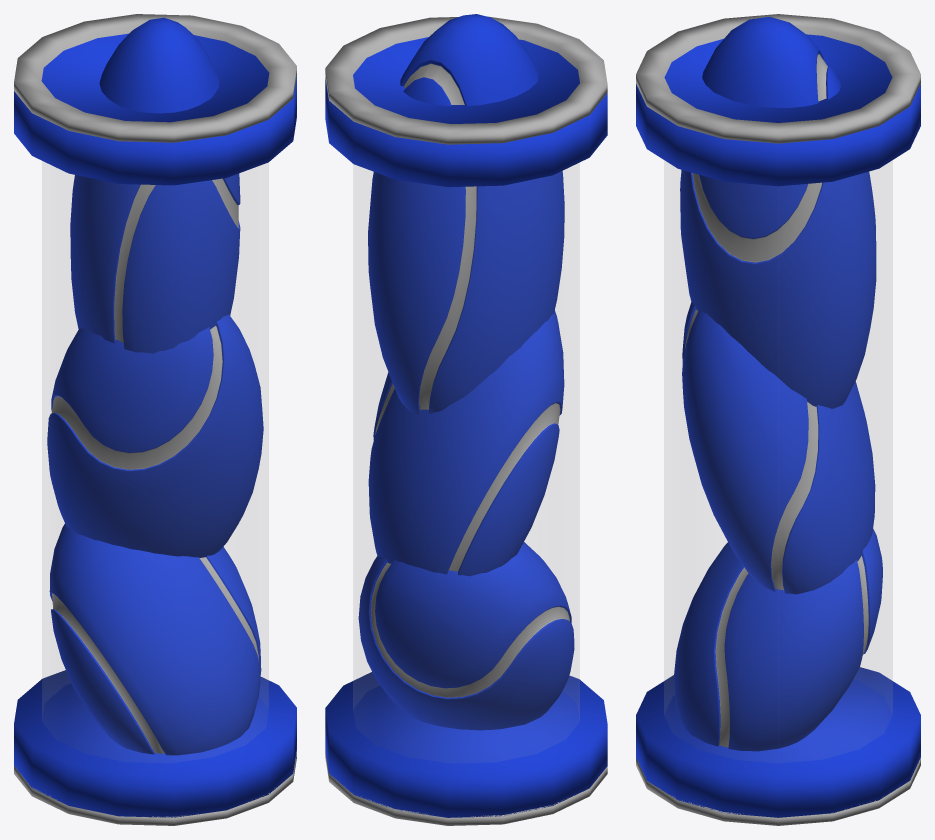
File: padel_ball_packaging.glb
3 views of the same model, side by side, from view 1: azimuth 30°, elevation 25°; view 2: azimuth 150°, elevation 25°; view 3: azimuth 270°, elevation 25° (orthographic).
Parts seen in each view (by area): view 1: Tennis Ball.003, Tennis Ball.001, Tennis Ball.004, Cylinder.003, Cylinder, Cylinder.005, Cylinder.002, Cylinder.004; view 2: Tennis Ball.004, Tennis Ball.003, Tennis Ball.001, Cylinder.003, Cylinder, Cylinder.005, Cylinder.002, Cylinder.004; view 3: Tennis Ball.004, Tennis Ball.003, Tennis Ball.001, Cylinder.003, Cylinder, Cylinder.005, Cylinder.002, Cylinder.004.
Boxes of the visible parts, x1=… form: Tennis Ball.003: x1=47, y1=314, x2=263, y2=557; Tennis Ball.001: x1=49, y1=523, x2=261, y2=755; Tennis Ball.004: x1=70, y1=17, x2=240, y2=353; Cylinder.003: x1=14, y1=670, x2=296, y2=817; Cylinder: x1=42, y1=161, x2=268, y2=717; Cylinder.005: x1=14, y1=14, x2=296, y2=142; Cylinder.002: x1=14, y1=76, x2=296, y2=185; Cylinder.004: x1=14, y1=751, x2=296, y2=825; Tennis Ball.004: x1=368, y1=14, x2=564, y2=414; Tennis Ball.003: x1=368, y1=310, x2=564, y2=576; Tennis Ball.001: x1=358, y1=542, x2=574, y2=730; Cylinder.003: x1=325, y1=672, x2=607, y2=817; Cylinder: x1=353, y1=163, x2=579, y2=719; Cylinder.005: x1=325, y1=16, x2=607, y2=144; Cylinder.002: x1=325, y1=78, x2=607, y2=187; Cylinder.004: x1=325, y1=750, x2=607, y2=825; Tennis Ball.004: x1=680, y1=17, x2=876, y2=408; Tennis Ball.003: x1=682, y1=301, x2=875, y2=594; Tennis Ball.001: x1=674, y1=528, x2=882, y2=751; Cylinder.003: x1=636, y1=667, x2=920, y2=817; Cylinder: x1=664, y1=160, x2=892, y2=713; Cylinder.005: x1=636, y1=14, x2=920, y2=143; Cylinder.002: x1=636, y1=84, x2=920, y2=186; Cylinder.004: x1=636, y1=757, x2=920, y2=825.
Bounding box in the file's own units: 1.51 × 4.35 × 1.51.
